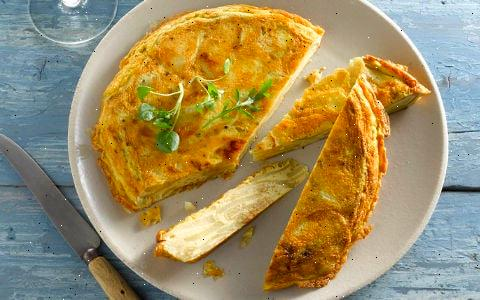omelette: (124, 11, 270, 164), (309, 67, 388, 292)
